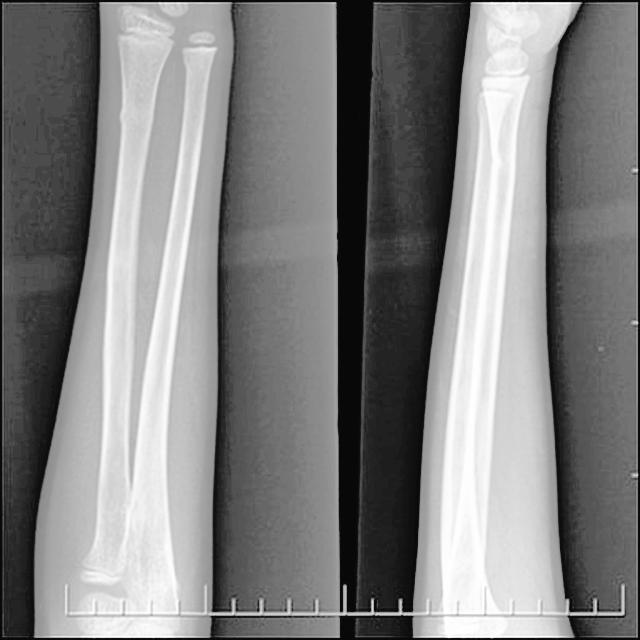GreenStick Fracture: (479, 141, 516, 184)
